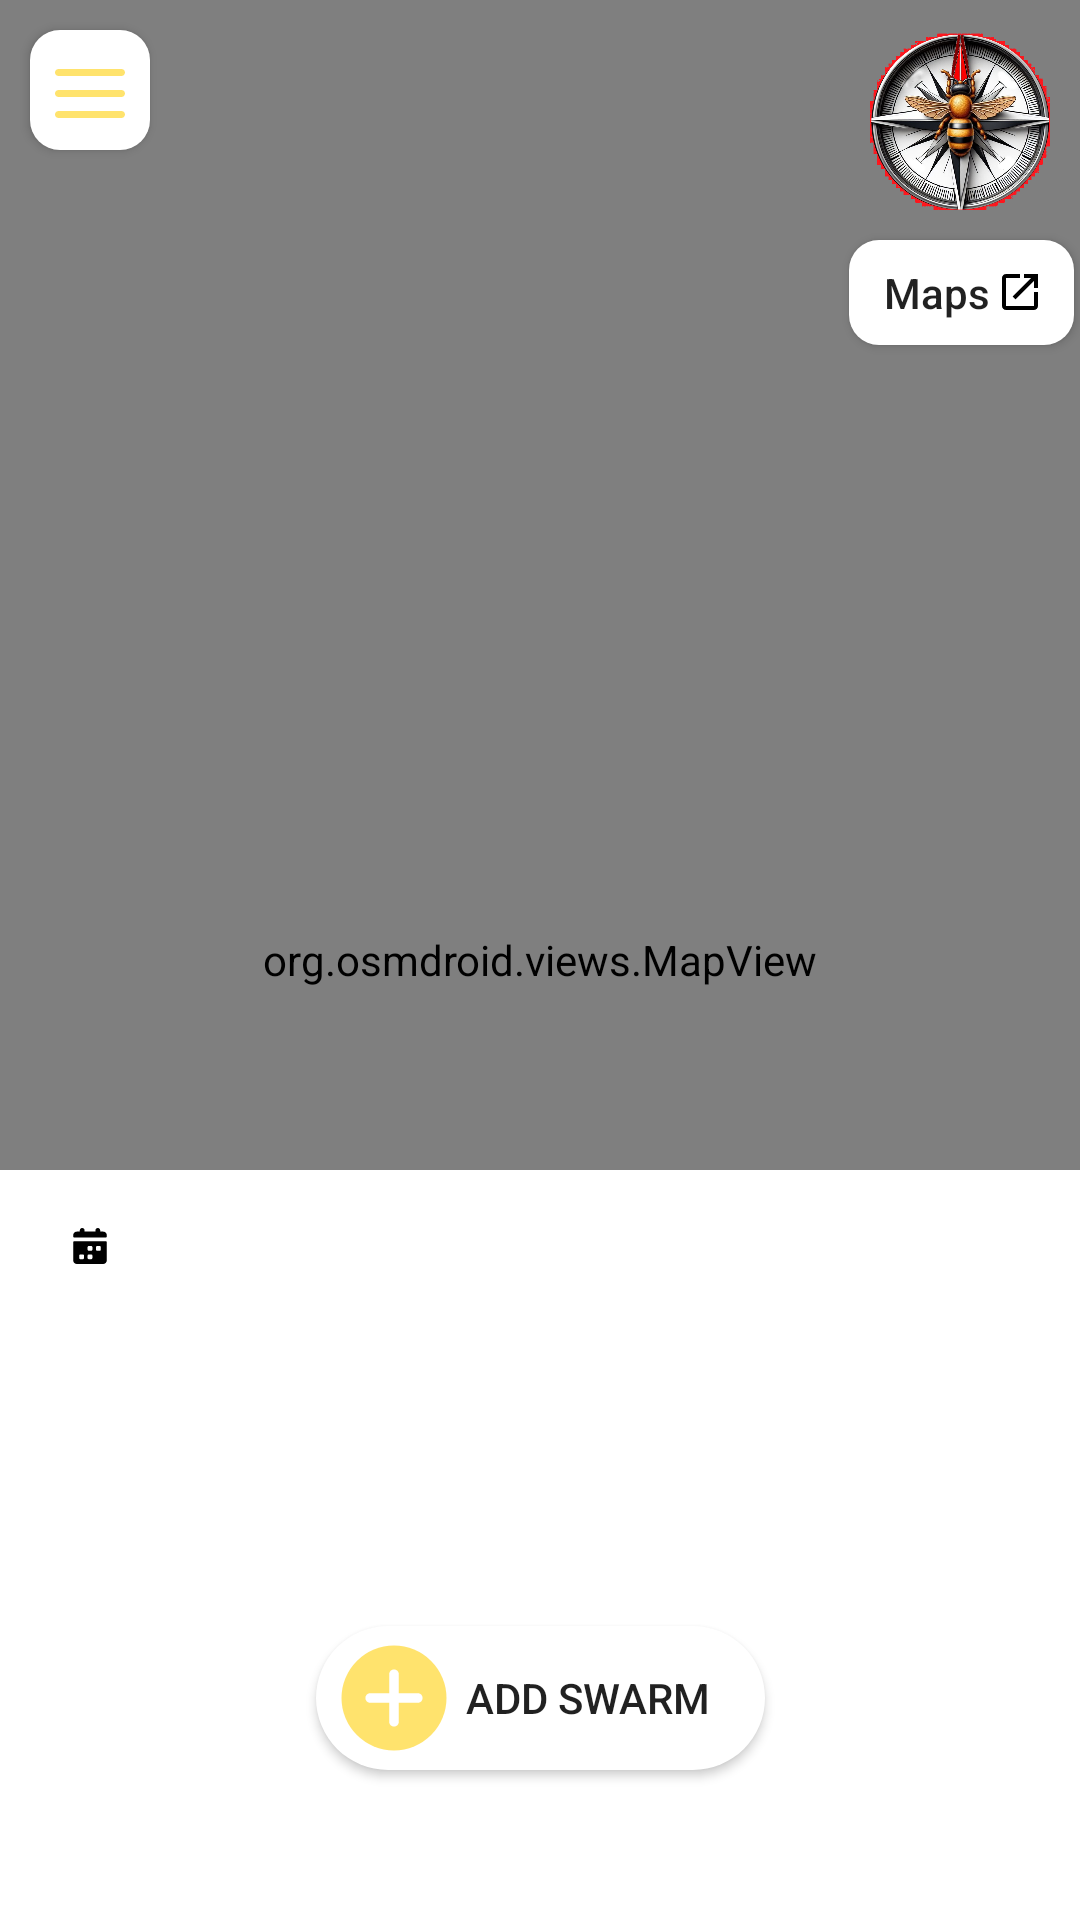

Icon bounding boxes for this 1080×1920 phone screenshot, format (x1, y1, x2, y2):
bee compass: (870, 33, 1050, 210)
